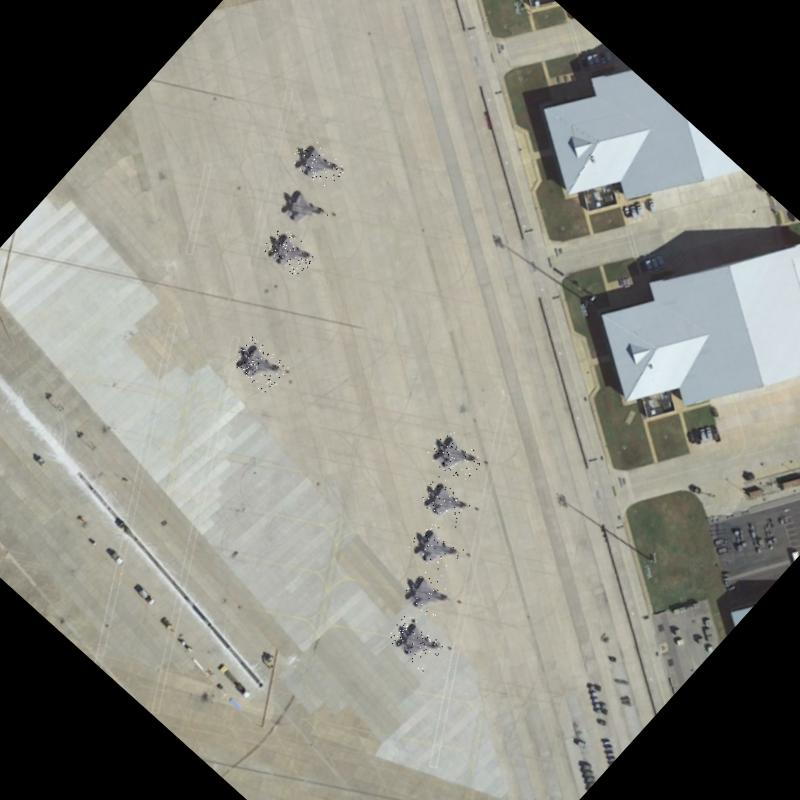A15: (228, 335, 290, 396), (383, 612, 445, 672), (286, 134, 348, 194), (424, 428, 484, 487), (397, 566, 457, 625), (406, 520, 466, 578), (416, 474, 474, 531), (272, 179, 330, 236), (260, 224, 318, 280)
